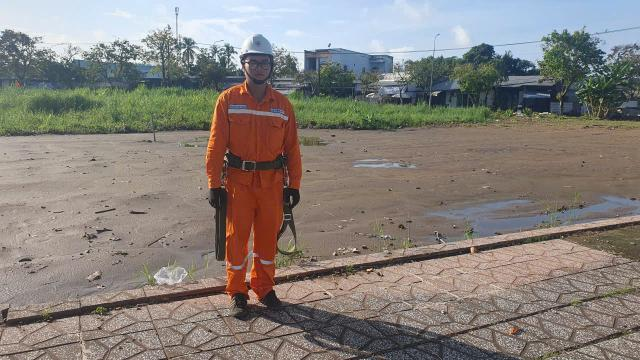gloves: (282, 182, 302, 208), (208, 181, 223, 211)
harness: (215, 144, 295, 174)
helmet: (232, 30, 278, 62)
shoes: (253, 283, 289, 314), (222, 291, 253, 319)
